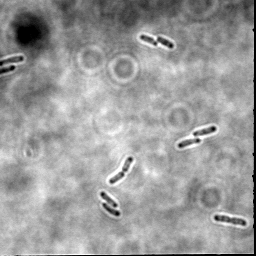Dividing: (107, 155, 135, 185), (212, 213, 248, 228)
Rod: (192, 124, 218, 139), (99, 191, 119, 209), (1, 52, 25, 67), (176, 136, 201, 150), (101, 202, 121, 218), (156, 35, 175, 51), (138, 33, 158, 48)
